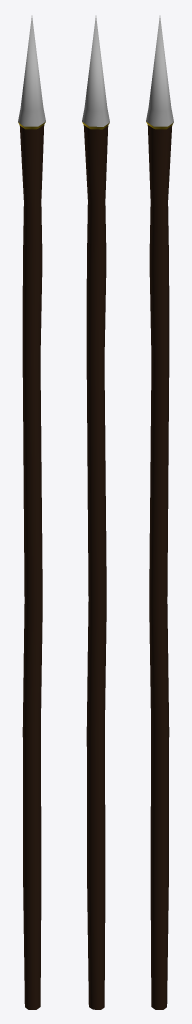
Rendered from Throwing@Javelin.fbx.
3 views of the same model, side by side, from view 1: azimuth 30°, elevation 25°; view 2: azimuth 150°, elevation 25°; view 3: azimuth 330°, elevation 25° (orthographic).
Parts seen in each view (by area): view 1: Throwing_Javelin; view 2: Throwing_Javelin; view 3: Throwing_Javelin.
Boxes of the visible parts, bbox=[...] form: Throwing_Javelin: bbox=[18, 15, 45, 1009]; Throwing_Javelin: bbox=[82, 15, 109, 1009]; Throwing_Javelin: bbox=[146, 15, 173, 1009].
Size of the model in its own units: 4.27 by 186 by 4.36.
